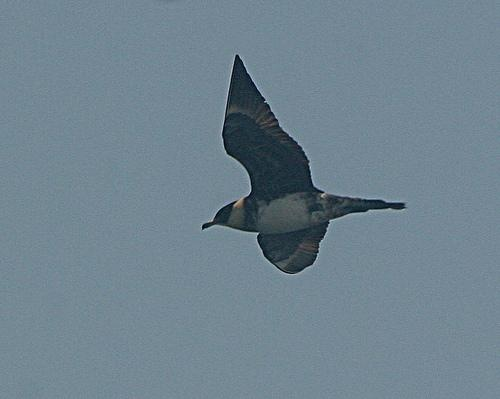bird: (198, 52, 406, 277)
